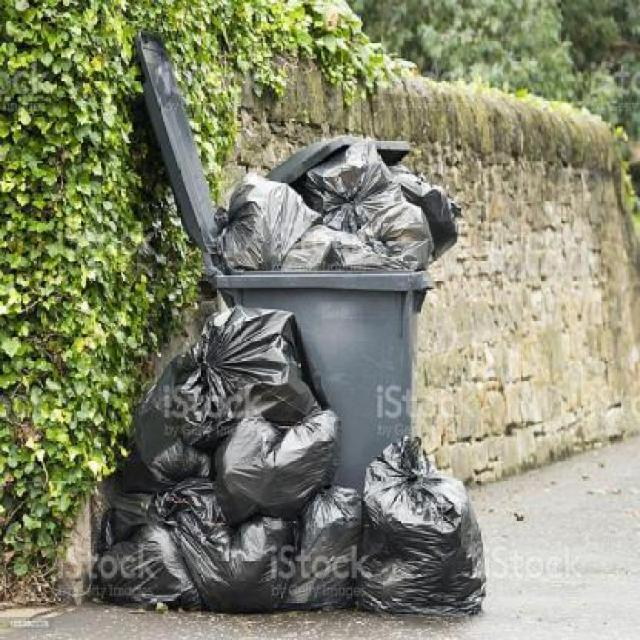garbage: (86, 296, 450, 603), (225, 154, 418, 278)
